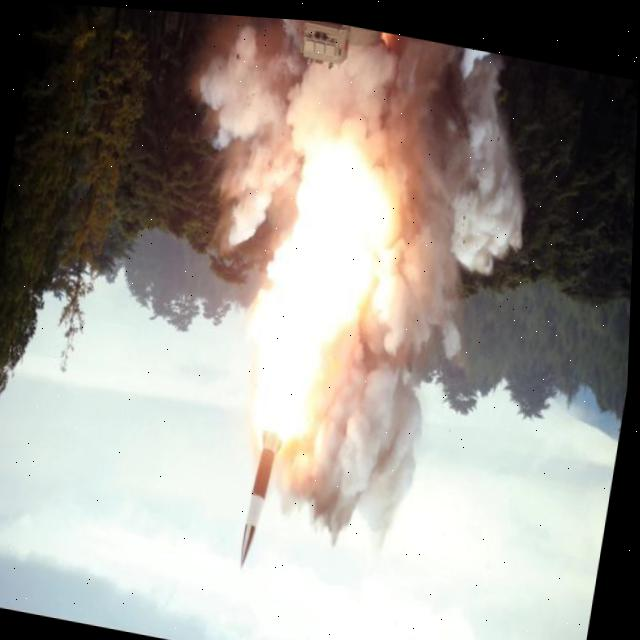missile: (223, 408, 301, 579)
